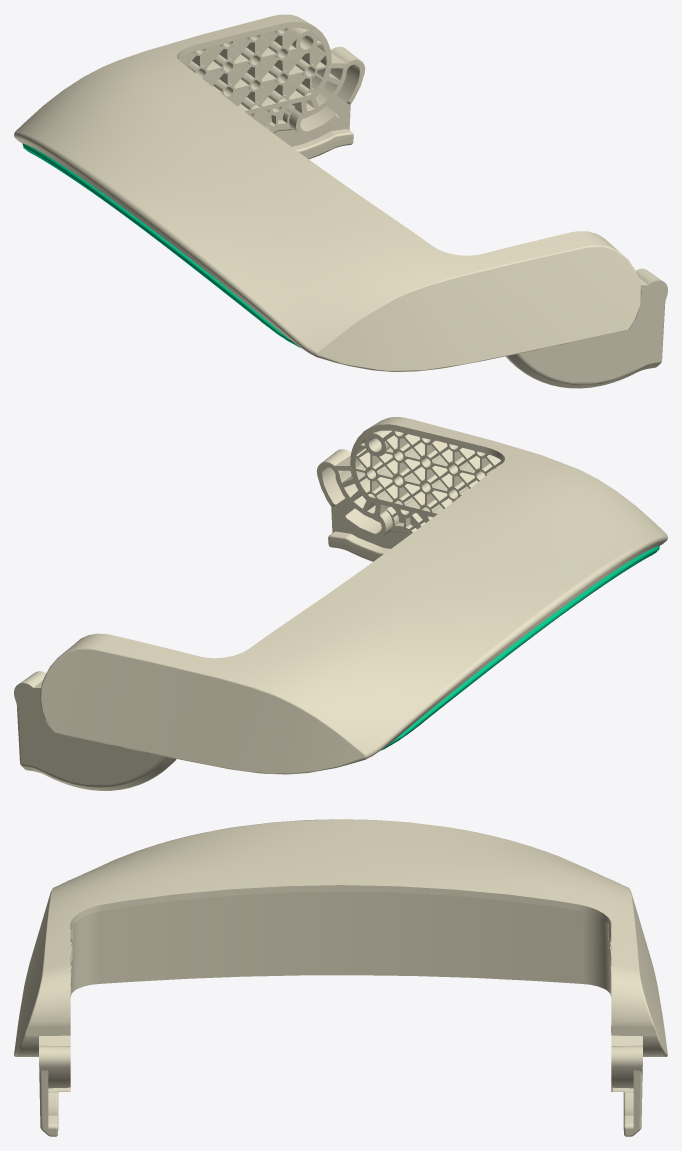
File: thermal_cycler_handle_32k.dae
The picture shows the model from 3 angles, top to bottom: view 1: azimuth 30°, elevation 25°; view 2: azimuth 150°, elevation 25°; view 3: azimuth 270°, elevation 25°; orthographic projection. The views are drawn at different scales.
Parts seen in each view (by area): view 1: biorad_thermal_cycler_t100_lid1; view 2: biorad_thermal_cycler_t100_lid1; view 3: biorad_thermal_cycler_t100_lid1.
Boxes of the visible parts, bbox=[...] form: biorad_thermal_cycler_t100_lid1: bbox=[14, 14, 667, 388]; biorad_thermal_cycler_t100_lid1: bbox=[14, 417, 667, 790]; biorad_thermal_cycler_t100_lid1: bbox=[14, 819, 667, 1136].
Bounding box in the file's own units: 0.1559 × 0.2396 × 0.0639.
